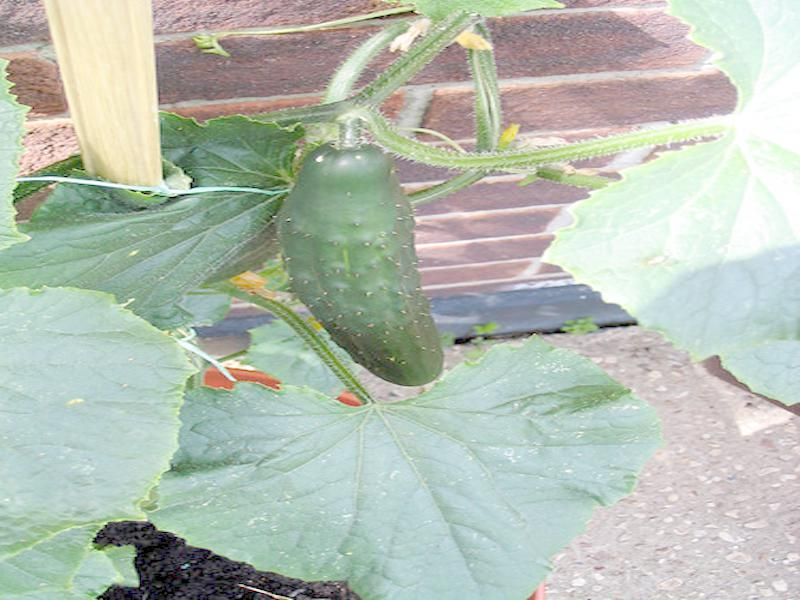Cucumber: (279, 143, 448, 386)
